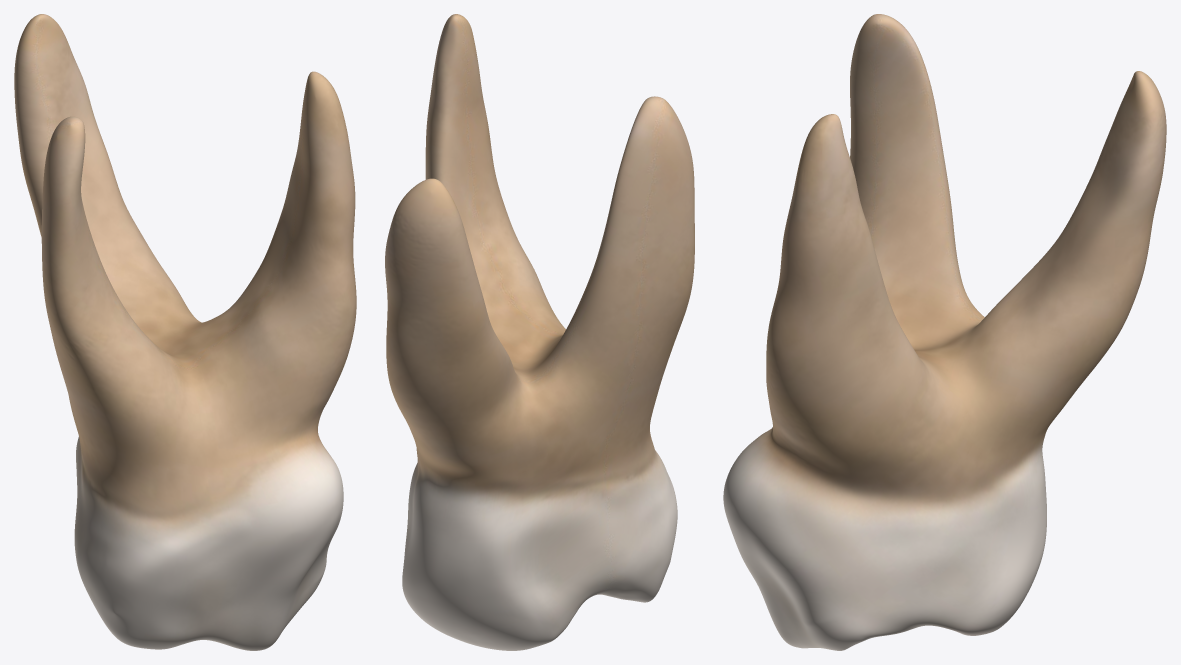
Rendered from primary_upper.glb.
The picture shows the model from 3 angles, left to right: view 1: azimuth 30°, elevation 25°; view 2: azimuth 150°, elevation 25°; view 3: azimuth 270°, elevation 25°; orthographic projection. The views are drawn at different scales.
Visible parts, largest first — view 1: Object_11, Object_7, Object_16, Object_13, Object_18, Object_9; view 2: Object_11, Object_16, Object_9, Object_13, Object_7, Object_18; view 3: Object_7, Object_11, Object_13, Object_18, Object_16, Object_9.
Boxes of the visible parts, box(x1,y1,x2,y2) form: Object_11: box(29, 75, 355, 628); Object_7: box(36, 16, 356, 650); Object_16: box(34, 19, 343, 650); Object_13: box(14, 14, 327, 649); Object_18: box(18, 71, 356, 602); Object_9: box(42, 117, 331, 650); Object_11: box(386, 79, 694, 622); Object_16: box(405, 15, 694, 650); Object_9: box(389, 96, 693, 650); Object_13: box(385, 178, 677, 642); Object_7: box(385, 14, 652, 650); Object_18: box(386, 14, 536, 477); Object_7: box(723, 73, 1155, 642); Object_11: box(772, 18, 1161, 647); Object_13: box(751, 71, 1166, 650); Object_18: box(723, 114, 1159, 576); Object_16: box(725, 14, 1150, 643); Object_9: box(733, 14, 1136, 646).
Bounding box in the file's own units: 4.43 × 8.35 × 5.92.
Materials: 1 (1 with a texture image).
